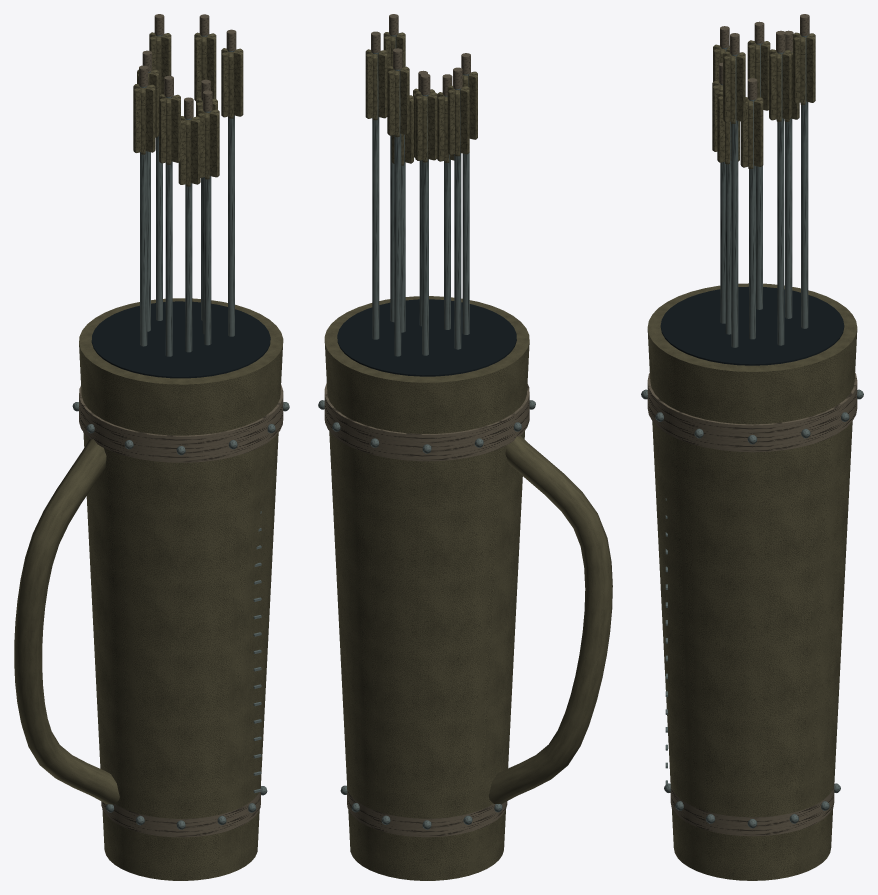
The picture shows the model from 3 angles, left to right: view 1: azimuth 30°, elevation 25°; view 2: azimuth 150°, elevation 25°; view 3: azimuth 270°, elevation 25°; orthographic projection. The views are drawn at different scales.
Parts seen in each view (by area): view 1: saddle leather, edge hardware, machined receiver, recess shadow; view 2: saddle leather, edge hardware, machined receiver, recess shadow; view 3: saddle leather, edge hardware, machined receiver, recess shadow.
Boxes of the visible parts, <box> form: saddle leather: <box>14,32,283,880</box>; edge hardware: <box>72,35,289,829</box>; machined receiver: <box>79,14,283,837</box>; recess shadow: <box>91,301,270,378</box>; saddle leather: <box>324,32,612,880</box>; edge hardware: <box>318,35,535,829</box>; machined receiver: <box>324,14,529,837</box>; recess shadow: <box>337,299,516,376</box>; saddle leather: <box>647,32,857,880</box>; edge hardware: <box>641,35,863,828</box>; machined receiver: <box>647,14,857,836</box>; recess shadow: <box>660,286,844,365</box>.
Size of the model in its own units: 0.1935 by 0.561 by 0.136.
Materials: 4 (3 with a texture image).
